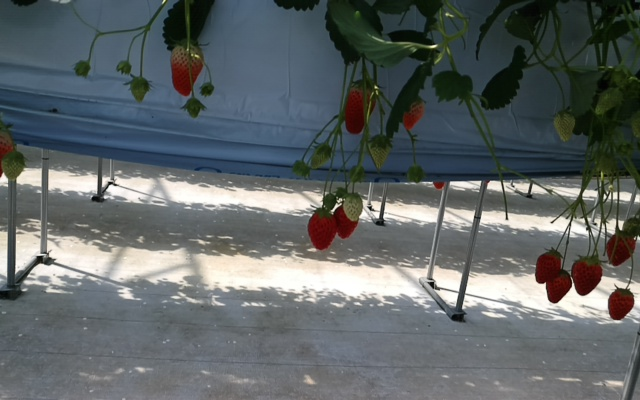GreenStrawberry: (593, 85, 624, 117), (368, 133, 393, 172), (552, 109, 577, 145), (1, 150, 27, 183), (308, 142, 333, 170), (342, 192, 364, 222), (127, 76, 150, 104)
MatureStrawberry: (168, 38, 204, 97), (342, 79, 379, 135), (306, 207, 338, 251), (571, 255, 603, 298), (605, 228, 637, 268), (331, 202, 359, 240), (607, 286, 636, 322), (534, 250, 562, 285), (546, 269, 573, 304), (402, 95, 426, 132)
